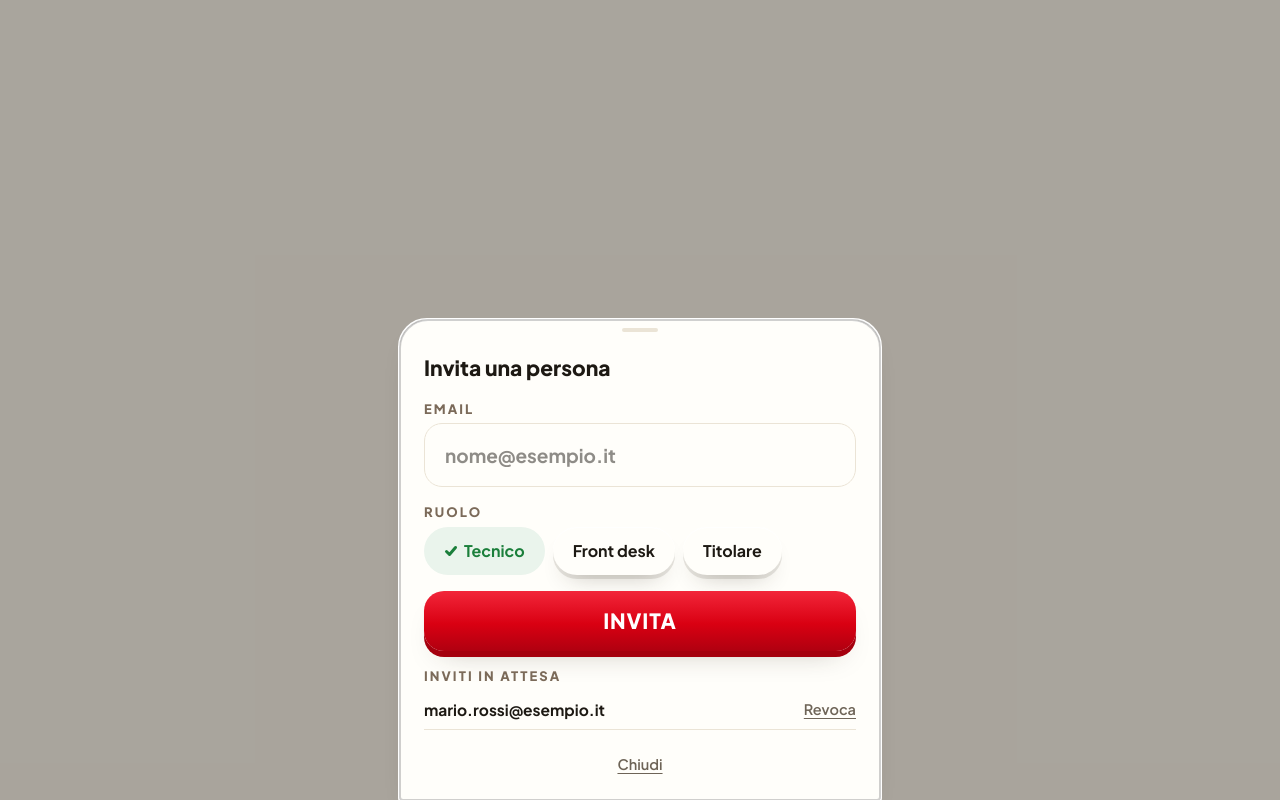
Test: InvitoPersonaSheet (Task 13) › revoca fallita (DELETE → 500) → alert visibile, invito ancora in lista (review finale 20/07)
Expected: the list item "mario.rossi@esempio.it" is shown, [424,700,605,719]
Click the button "Revoca" at (830, 710), box [804,686,856,734]
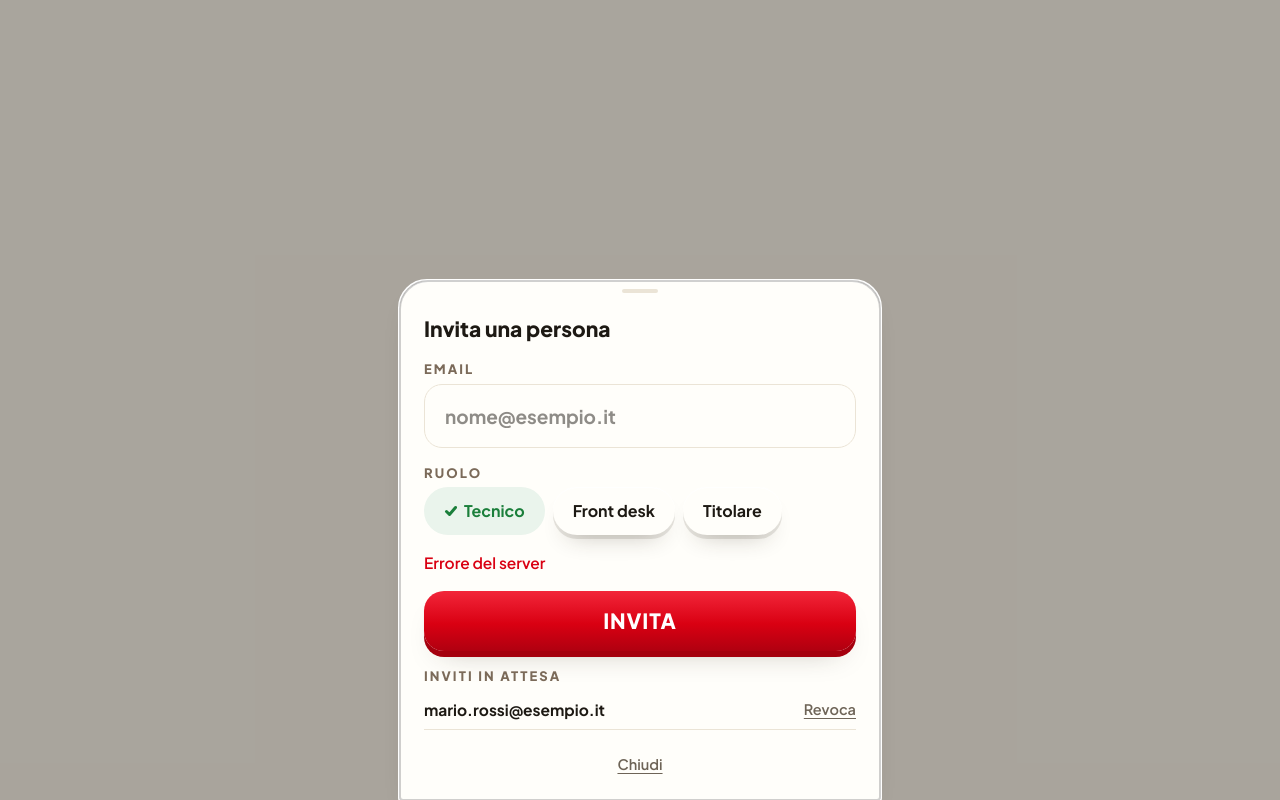
Expected: the text "mario.rossi@esempio.it" is shown, [424,698,605,721]
Result: the message reads "Errore del server" at [424,553,545,572]
